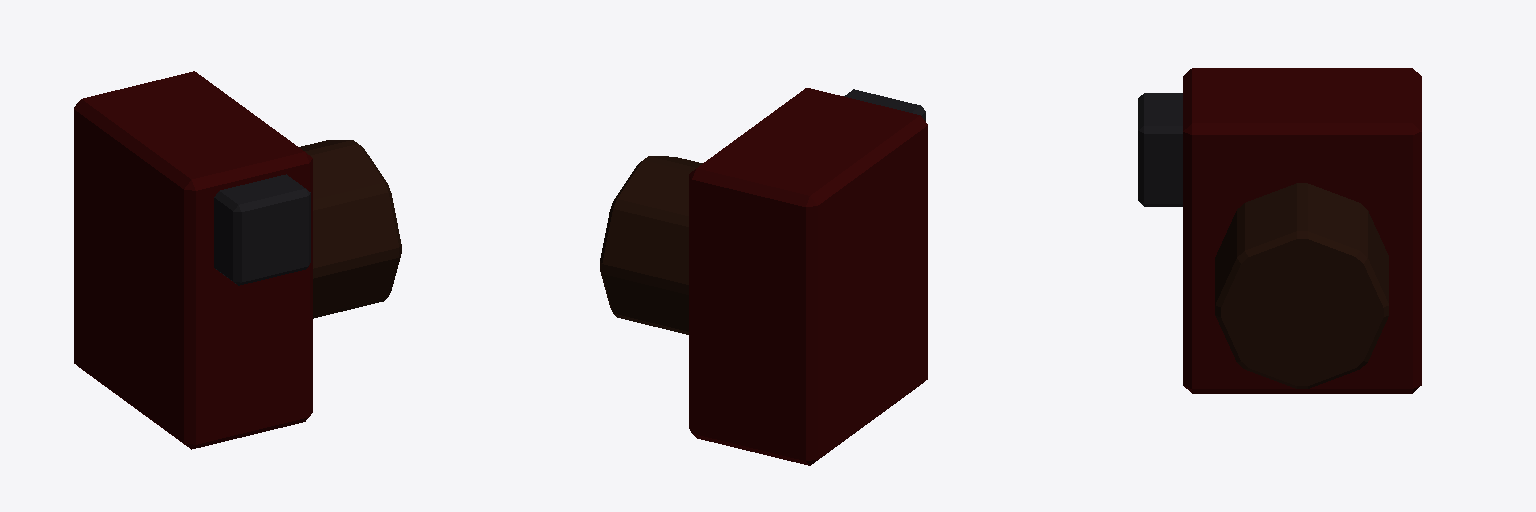
The model's file is camera2.obj.
3 views of the same model, side by side, from view 1: azimuth 30°, elevation 25°; view 2: azimuth 150°, elevation 25°; view 3: azimuth 270°, elevation 25° (orthographic).
Parts seen in each view (by area): view 1: obj1, obj2, obj3; view 2: obj1, obj2, obj3; view 3: obj1, obj2, obj3.
Boxes of the visible parts, x1,y1,x2,y2 form: obj1: [74, 71, 312, 449]; obj2: [299, 140, 401, 318]; obj3: [214, 174, 310, 285]; obj1: [689, 88, 927, 465]; obj2: [600, 156, 702, 334]; obj3: [844, 89, 925, 120]; obj1: [1183, 68, 1421, 393]; obj2: [1215, 183, 1388, 388]; obj3: [1138, 93, 1182, 206].
Bounding box in the file's own units: 0.45 × 0.5 × 0.475.